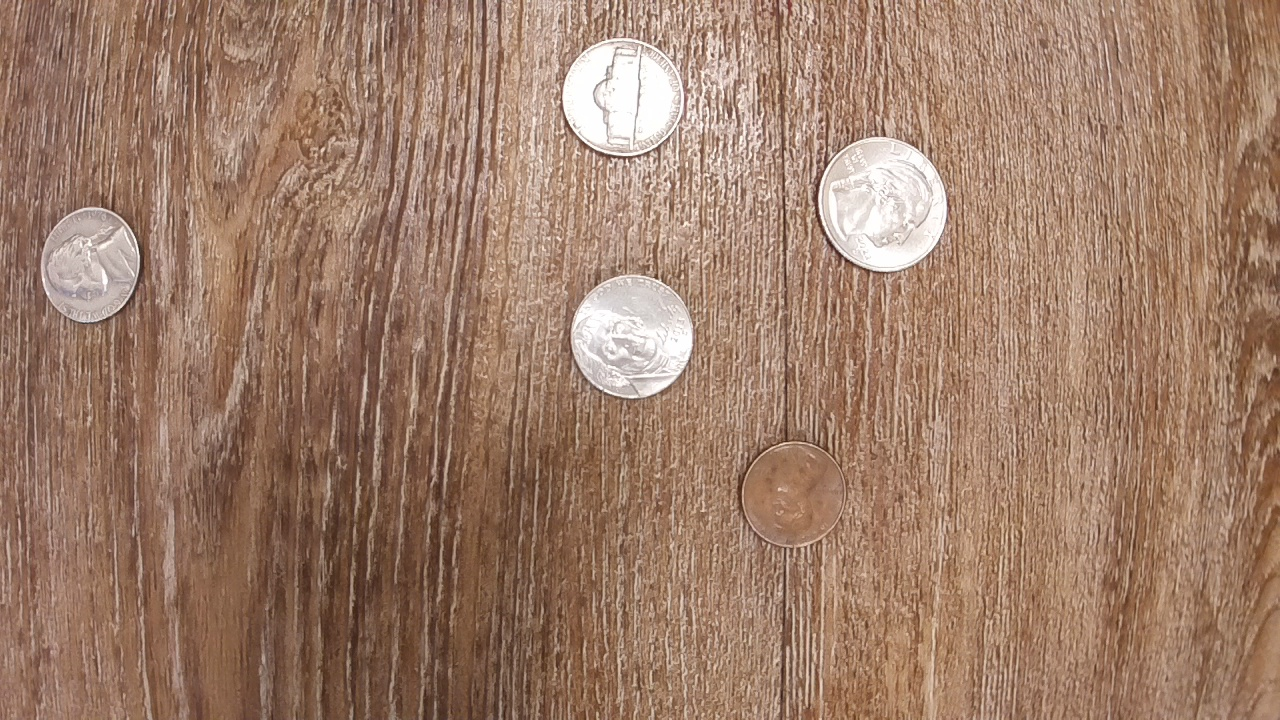dime: (36, 200, 144, 330)
nickel: (566, 267, 696, 407), (558, 32, 684, 164)
penny: (737, 436, 847, 550)
quarter: (812, 127, 954, 281)
